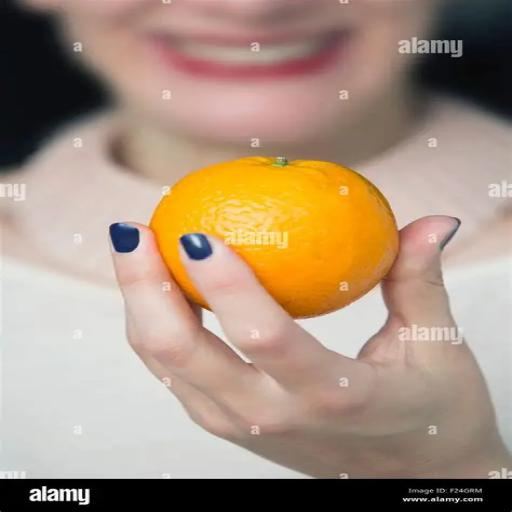orange: (151, 157, 398, 318)
